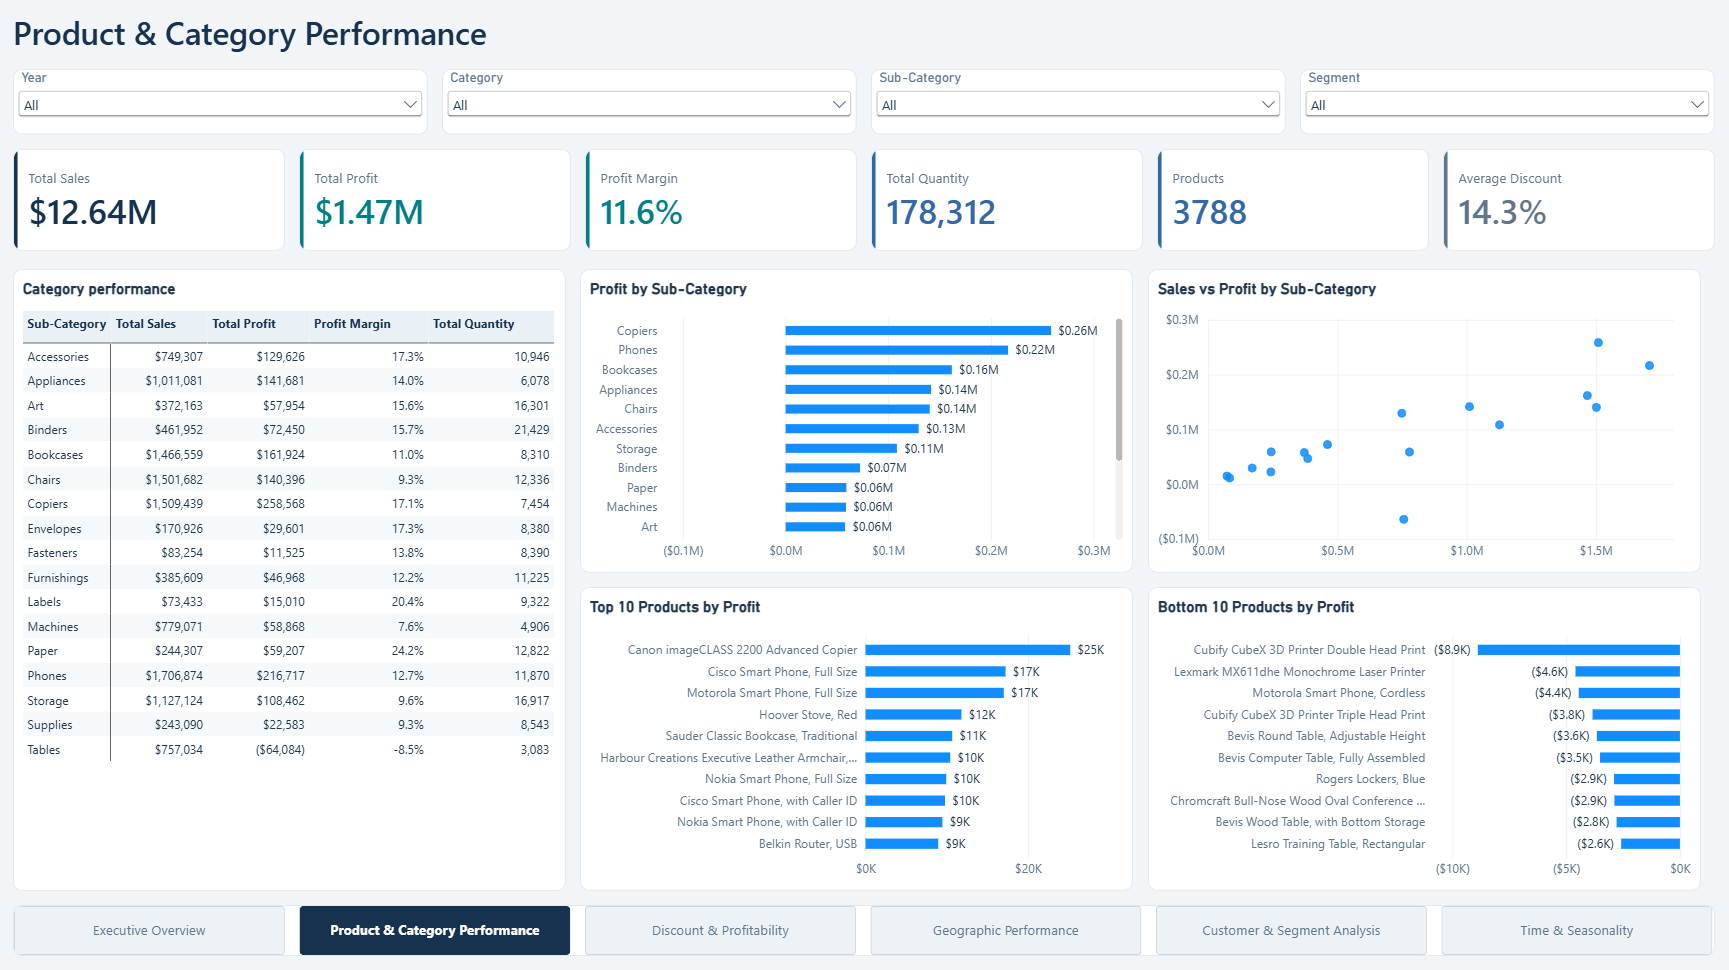

The page's visual inventory and layout, read from the dashboard file:
{"tool":"powerbi","page":{"name":"Product & Category Performance","canvas":[1920,1080],"ordinal":1},"visuals":[{"type":"textbox","box":[24,16,1872,48],"z":1000},{"type":"slicer","fields":{"Values":["Global Superstore Cleaned._Year"]},"box":[24,80,456,72],"z":2000},{"type":"slicer","fields":{"Values":["Global Superstore Cleaned.Category"]},"box":[496,80,456,72],"z":3000},{"type":"slicer","fields":{"Values":["Global Superstore Cleaned.Sub-Category"]},"box":[968,80,456,72],"z":4000},{"type":"slicer","fields":{"Values":["Global Superstore Cleaned.Segment"]},"box":[1440,80,456,72],"z":5000},{"type":"cardVisual","fields":{"Data":["Global Superstore Cleaned.Total Sales"]},"box":[24,168,298.7,112],"z":6000},{"type":"cardVisual","fields":{"Data":["Global Superstore Cleaned.Total Profit"]},"box":[338.7,168,298.7,112],"z":7000},{"type":"cardVisual","fields":{"Data":["Global Superstore Cleaned.Profit Margin"]},"box":[653.3,168,298.7,112],"z":8000},{"type":"cardVisual","fields":{"Data":["Global Superstore Cleaned.Total Quantity"]},"box":[968,168,298.7,112],"z":9000},{"type":"cardVisual","fields":{"Data":["Products(Global Superstore Cleaned.ProductID)"]},"box":[1282.7,168,298.7,112],"z":10000},{"type":"cardVisual","fields":{"Data":["Average Discount(Global Superstore Cleaned.Discount)"]},"box":[1597.3,168,298.7,112],"z":11000},{"type":"pivotTable","title":"Category performance","fields":{"Rows":["Global Superstore Cleaned.Sub-Category","Global Superstore Cleaned.Category"],"Values":["Global Superstore Cleaned.Total Sales","Global Superstore Cleaned.Total Profit","Global Superstore Cleaned.Profit Margin","Global Superstore Cleaned.Total Quantity"]},"box":[24,300,608,684],"z":12000},{"type":"clusteredBarChart","title":"Profit by Sub-Category","fields":{"Category":["Global Superstore Cleaned.Sub-Category"],"Y":["Global Superstore Cleaned.Total Profit"]},"box":[648,300,608,334],"z":13000},{"type":"scatterChart","title":"Sales vs Profit by Sub-Category","fields":{"Category":["Global Superstore Cleaned.Sub-Category"],"X":["Global Superstore Cleaned.Total Sales"],"Y":["Global Superstore Cleaned.Total Profit"]},"box":[1272,300,608,334],"z":14000},{"type":"clusteredBarChart","title":"Top 10 Products by Profit","fields":{"Category":["Global Superstore Cleaned.ProductName"],"Y":["Global Superstore Cleaned.Total Profit"]},"box":[648,650,608,334],"z":15000},{"type":"clusteredBarChart","title":"Bottom 10 Products by Profit","fields":{"Category":["Global Superstore Cleaned.ProductName"],"Y":["Global Superstore Cleaned.Total Profit"]},"box":[1272,650,608,334],"z":16000},{"type":"pageNavigator","box":[24,1000,1872,56],"z":17000}]}

Visuals, with their boxes in screenshot pixels (x1, y1, x2, y2), scaled from the page's 1920x1080 canvas onto the 1729x970 screenshot:
textbox: detection(22, 14, 1707, 57)
slicer - Global Superstore Cleaned._Year: detection(22, 72, 432, 137)
slicer - Global Superstore Cleaned.Category: detection(447, 72, 857, 137)
slicer - Global Superstore Cleaned.Sub-Category: detection(872, 72, 1282, 137)
slicer - Global Superstore Cleaned.Segment: detection(1297, 72, 1707, 137)
cardVisual - Global Superstore Cleaned.Total Sales: detection(22, 151, 291, 251)
cardVisual - Global Superstore Cleaned.Total Profit: detection(305, 151, 574, 251)
cardVisual - Global Superstore Cleaned.Profit Margin: detection(588, 151, 857, 251)
cardVisual - Global Superstore Cleaned.Total Quantity: detection(872, 151, 1141, 251)
cardVisual - Products(Global Superstore Cleaned.ProductID): detection(1155, 151, 1424, 251)
cardVisual - Average Discount(Global Superstore Cleaned.Discount): detection(1438, 151, 1707, 251)
"Category performance" pivotTable: detection(22, 269, 569, 884)
"Profit by Sub-Category" clusteredBarChart: detection(584, 269, 1131, 569)
"Sales vs Profit by Sub-Category" scatterChart: detection(1145, 269, 1693, 569)
"Top 10 Products by Profit" clusteredBarChart: detection(584, 584, 1131, 884)
"Bottom 10 Products by Profit" clusteredBarChart: detection(1145, 584, 1693, 884)
pageNavigator: detection(22, 898, 1707, 948)
